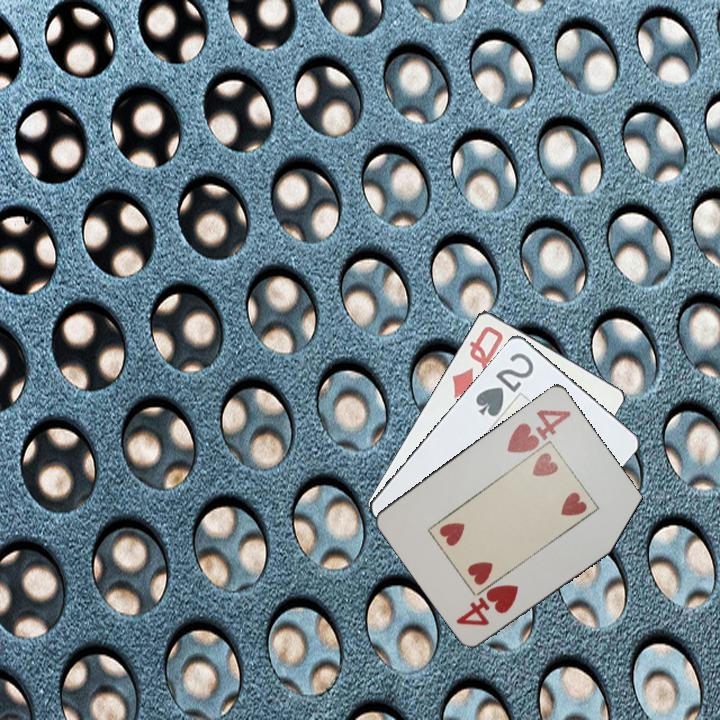2s: (472, 349, 537, 419)
4h: (503, 405, 574, 456), (452, 580, 522, 629)
Qd: (448, 322, 506, 401)
